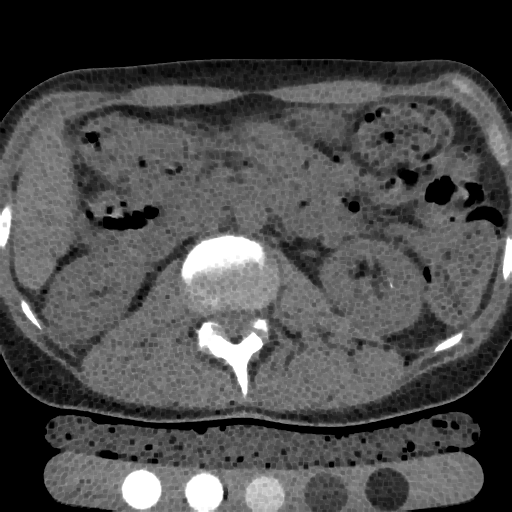Lesion: (387, 280, 398, 293)
